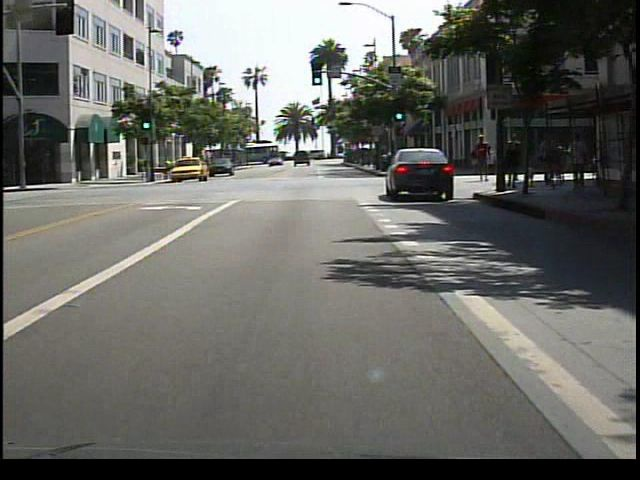person: (471, 133, 497, 188)
